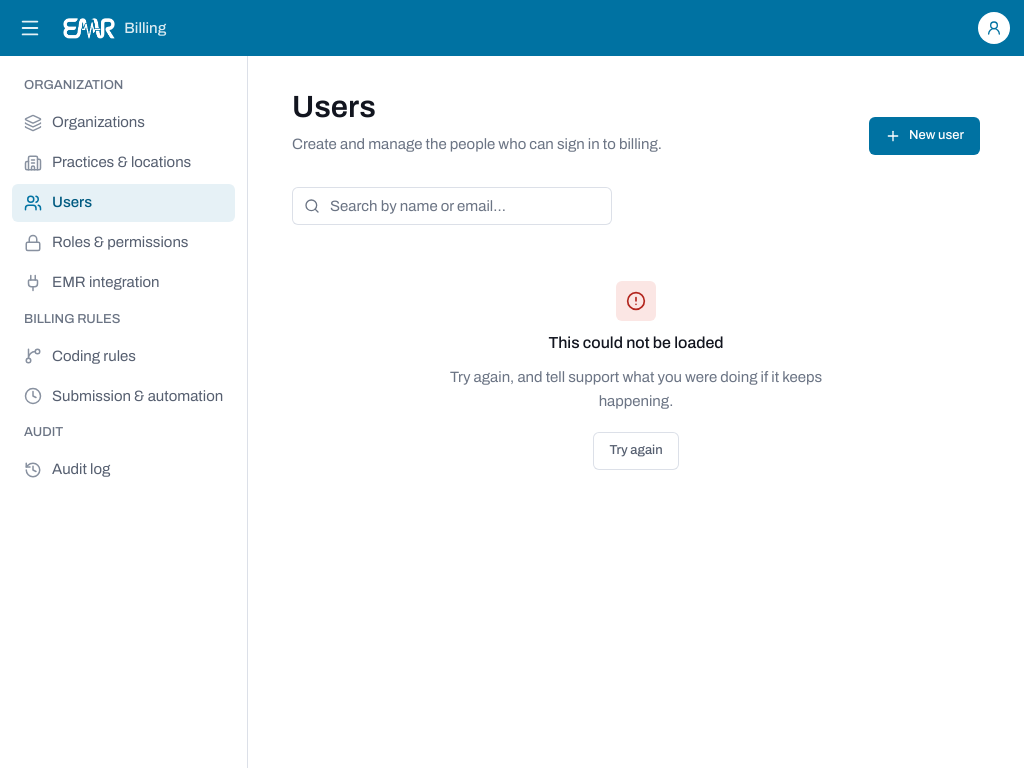
it: navigation on a phone › closes when a link is followed, and goes there
Click the button named "Open navigation menu" at (30, 28), box [8,6,52,50]
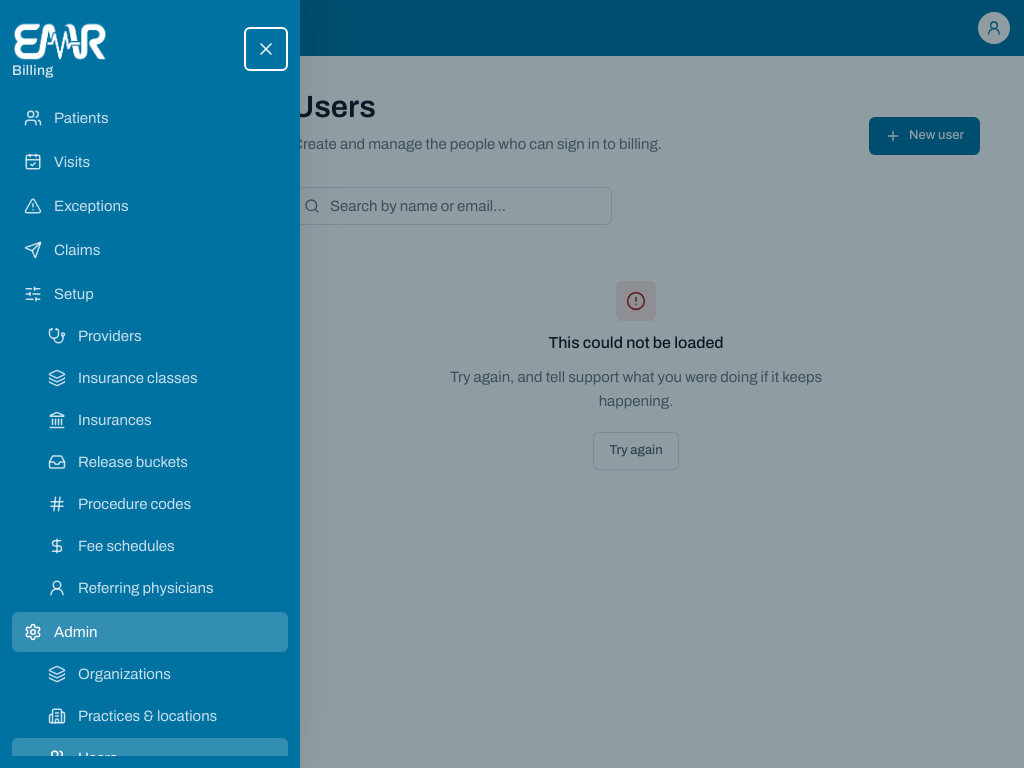
Click the link "Organizations" at (110, 674), box [48,665,171,683]
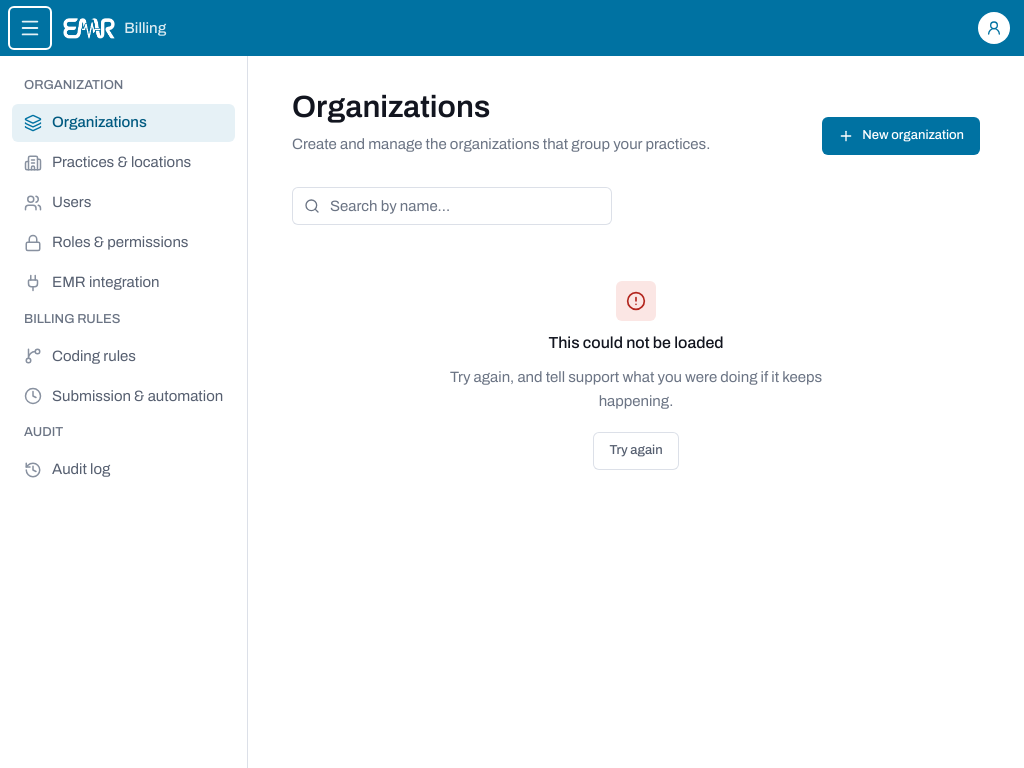
Check: the dialog is gone
